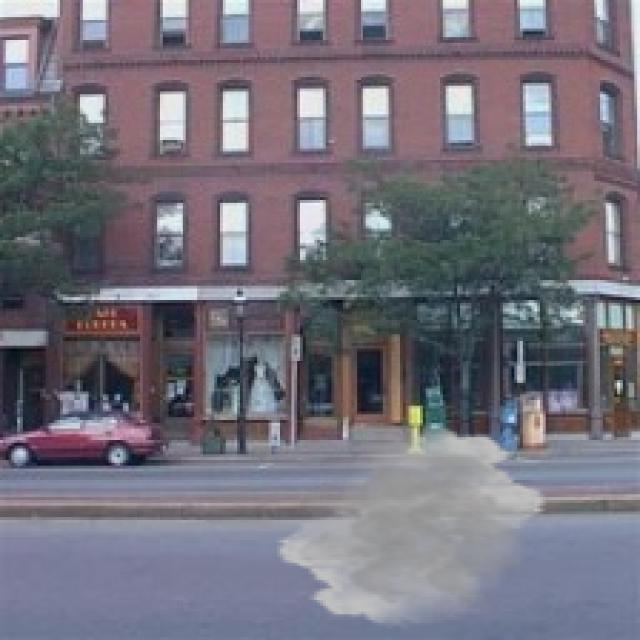Smoke: (274, 422, 549, 628)
